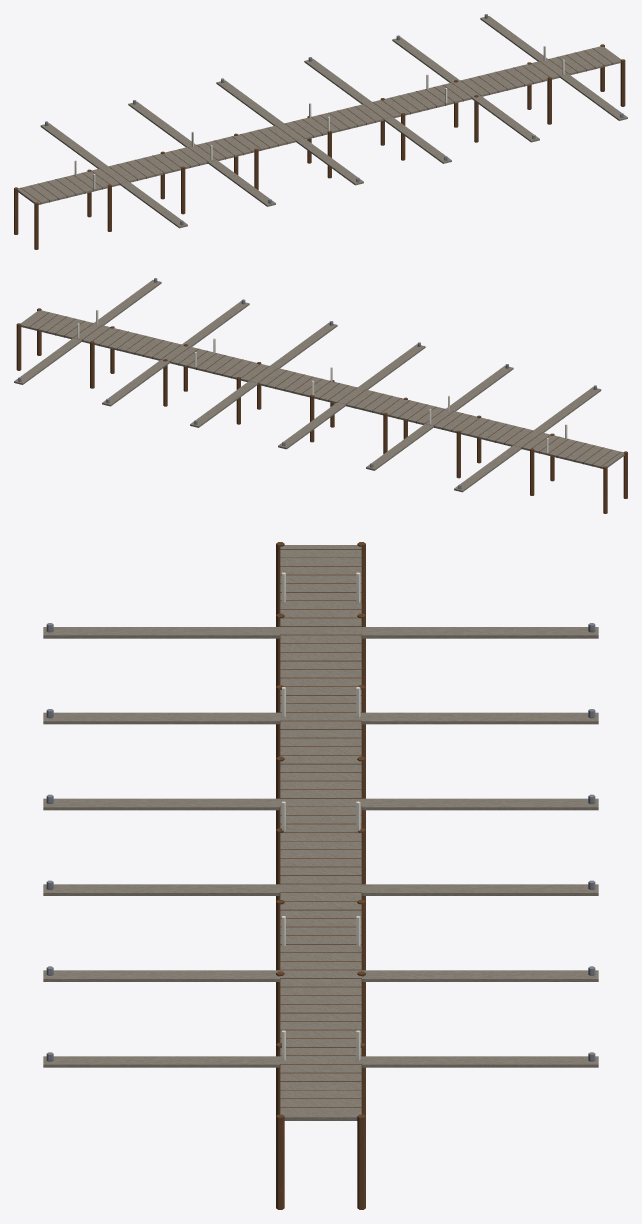
Rendered from gastbrygga_tex.glb.
3 views of the same model, one above another, from view 1: azimuth 30°, elevation 25°; view 2: azimuth 150°, elevation 25°; view 3: azimuth 270°, elevation 25° (orthographic). The views are drawn at different scales.
Parts seen in each view (by area): view 1: gastbrygga; view 2: gastbrygga; view 3: gastbrygga.
Boxes of the visible parts, <box> form: gastbrygga: <box>14,14,627,249</box>; gastbrygga: <box>14,278,627,513</box>; gastbrygga: <box>43,542,598,1209</box>.
Bounding box in the file's own units: 40.23 × 3.9 × 16.4.
Materials: 4 (4 with a texture image).
